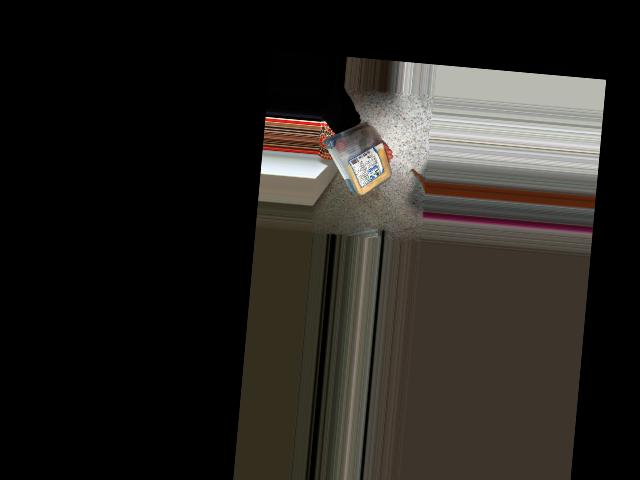cheese: (329, 126, 394, 196)
